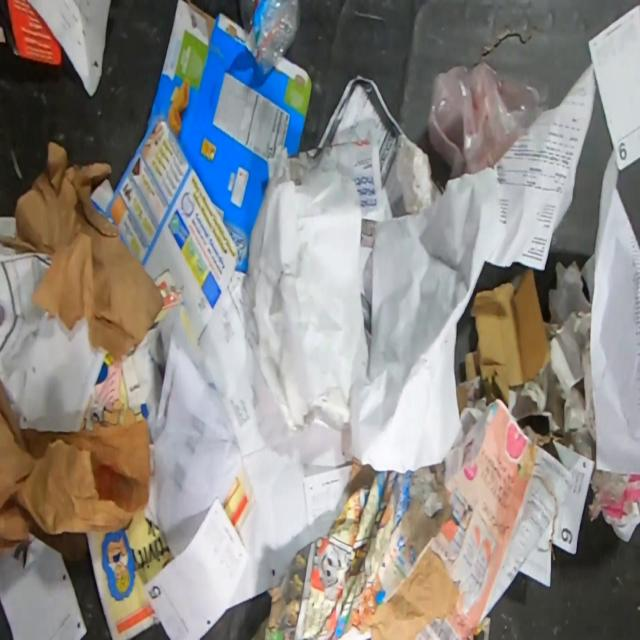cardboard: (146, 0, 311, 270), (456, 268, 550, 411), (587, 468, 640, 541)
soft_plastic: (427, 61, 550, 179), (238, 0, 301, 76)
